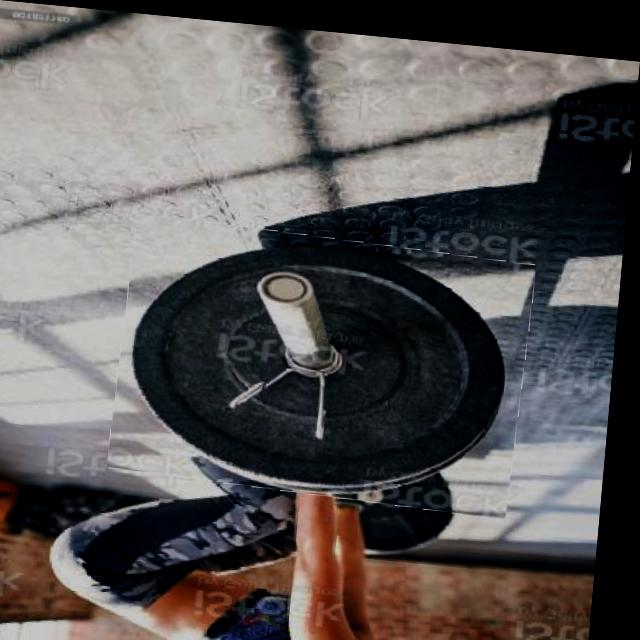barbell: (118, 214, 540, 506)
